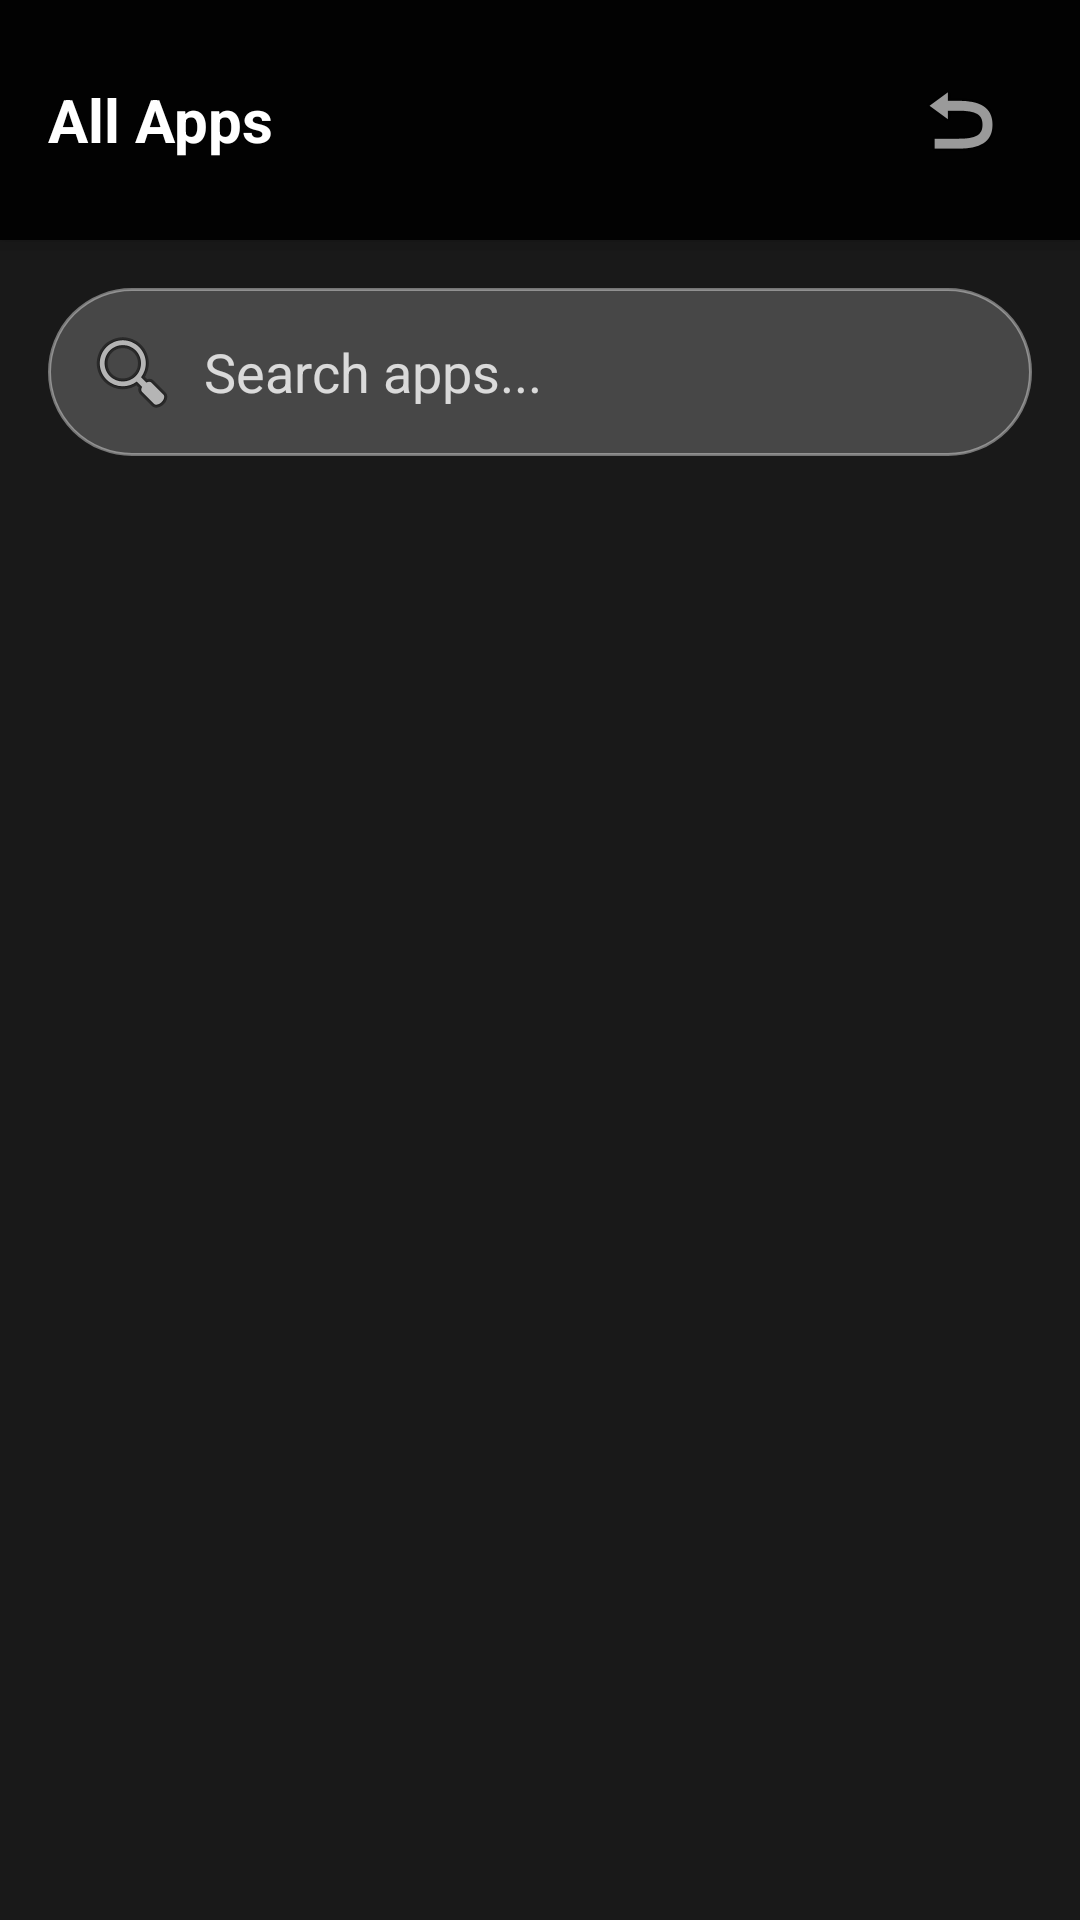

Screen size 1080px×1920px. Icon name, then its center in pixels as (x=x, y=y):
Back: (x=961, y=120)
